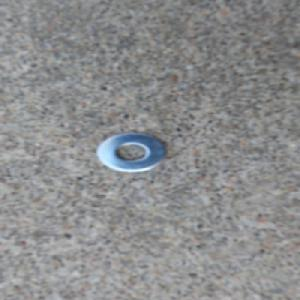Washer: (90, 128, 171, 176)
